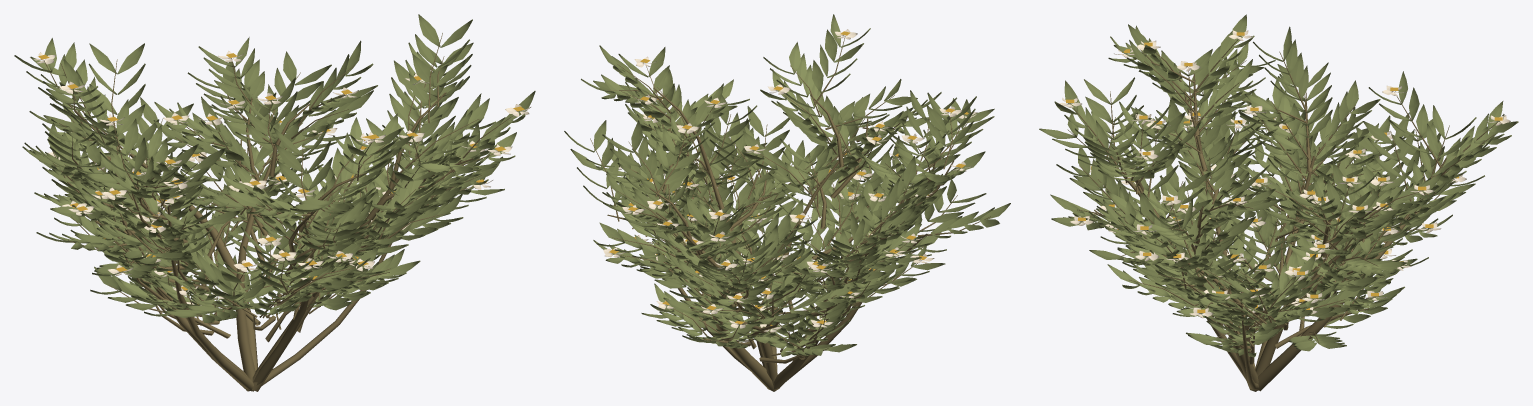
File: Ciste_0_High.fbx
3 renders of one model, left to right at view 1: azimuth 30°, elevation 25°; view 2: azimuth 150°, elevation 25°; view 3: azimuth 270°, elevation 25°, orthographic. The views are drawn at different scales.
Visible parts, largest first — view 1: Ciste_0_High; view 2: Ciste_0_High; view 3: Ciste_0_High.
Boxes of the visible parts, box(x1,y1,x2,y2) form: Ciste_0_High: box(14, 14, 535, 391); Ciste_0_High: box(564, 14, 1010, 391); Ciste_0_High: box(1039, 14, 1518, 391).
Size of the model in its own units: 147 by 100 by 141.
